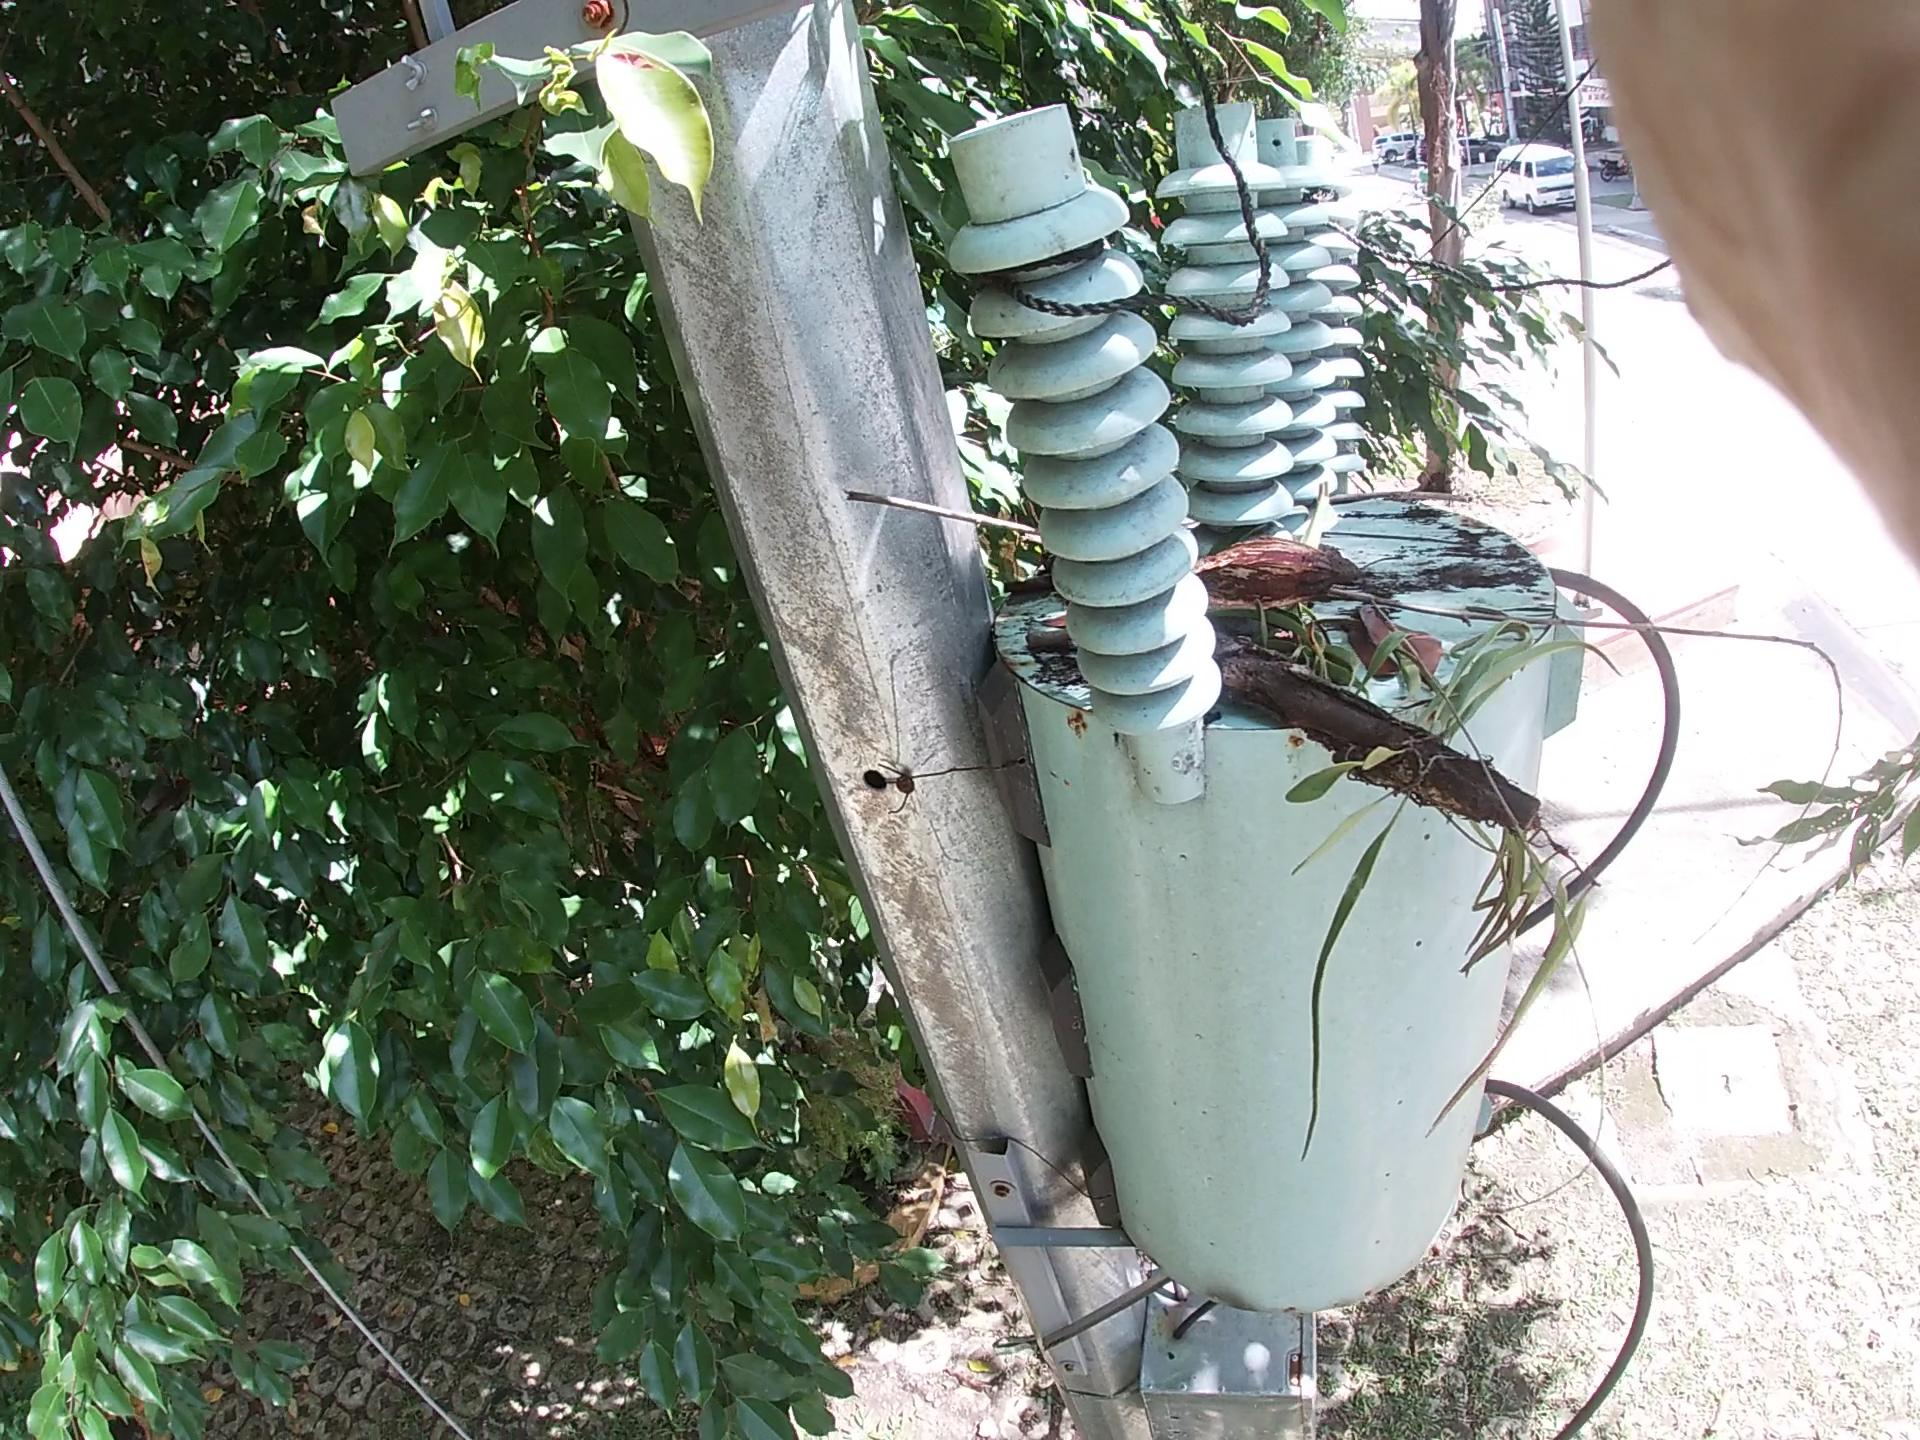branch with leaves: (1138, 549, 1634, 951)
leaf: (1028, 582, 1092, 650)
mahogany fruit: (1181, 498, 1426, 616)
tree branch: (838, 473, 1878, 750), (1279, 457, 1507, 551), (983, 569, 1067, 672)
